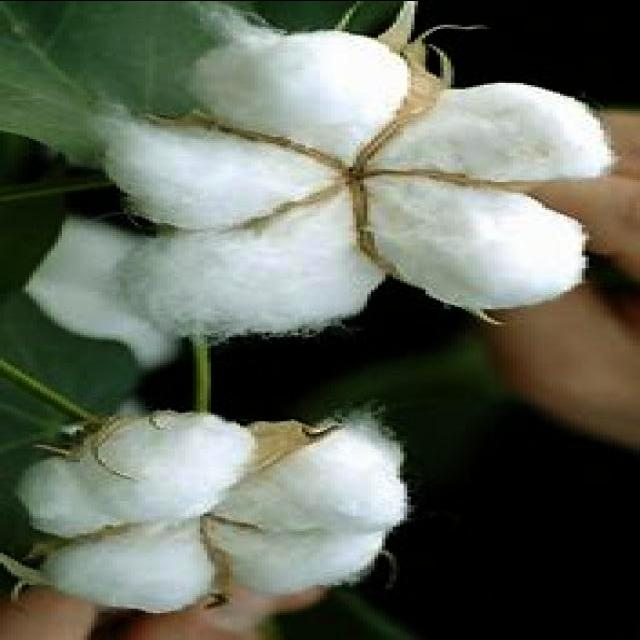Matured Cotton Boll: (104, 32, 598, 351), (17, 405, 421, 617)
